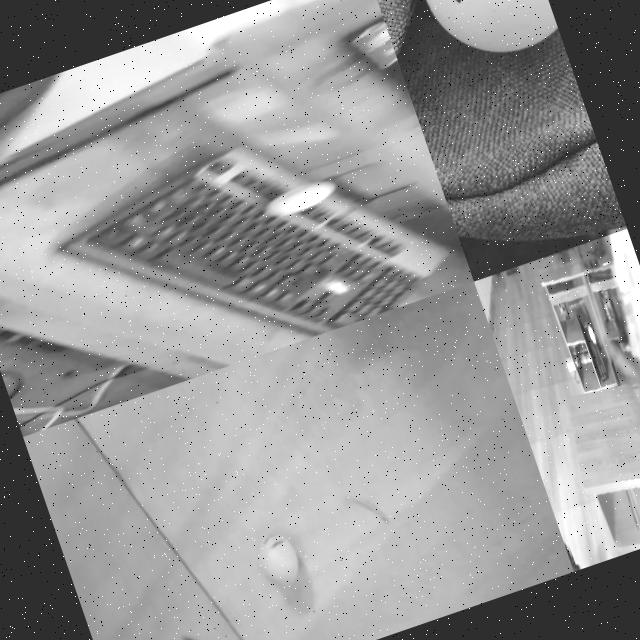ping-pong-ball: (406, 0, 559, 69), (264, 176, 336, 220), (252, 528, 302, 590), (584, 323, 596, 345)
